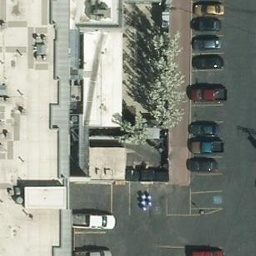car: (70, 211, 117, 232), (188, 156, 219, 172), (190, 137, 221, 153), (189, 120, 220, 136), (190, 87, 228, 100), (184, 245, 226, 256), (193, 54, 223, 67), (192, 36, 222, 49), (190, 15, 220, 28), (194, 1, 224, 14)
